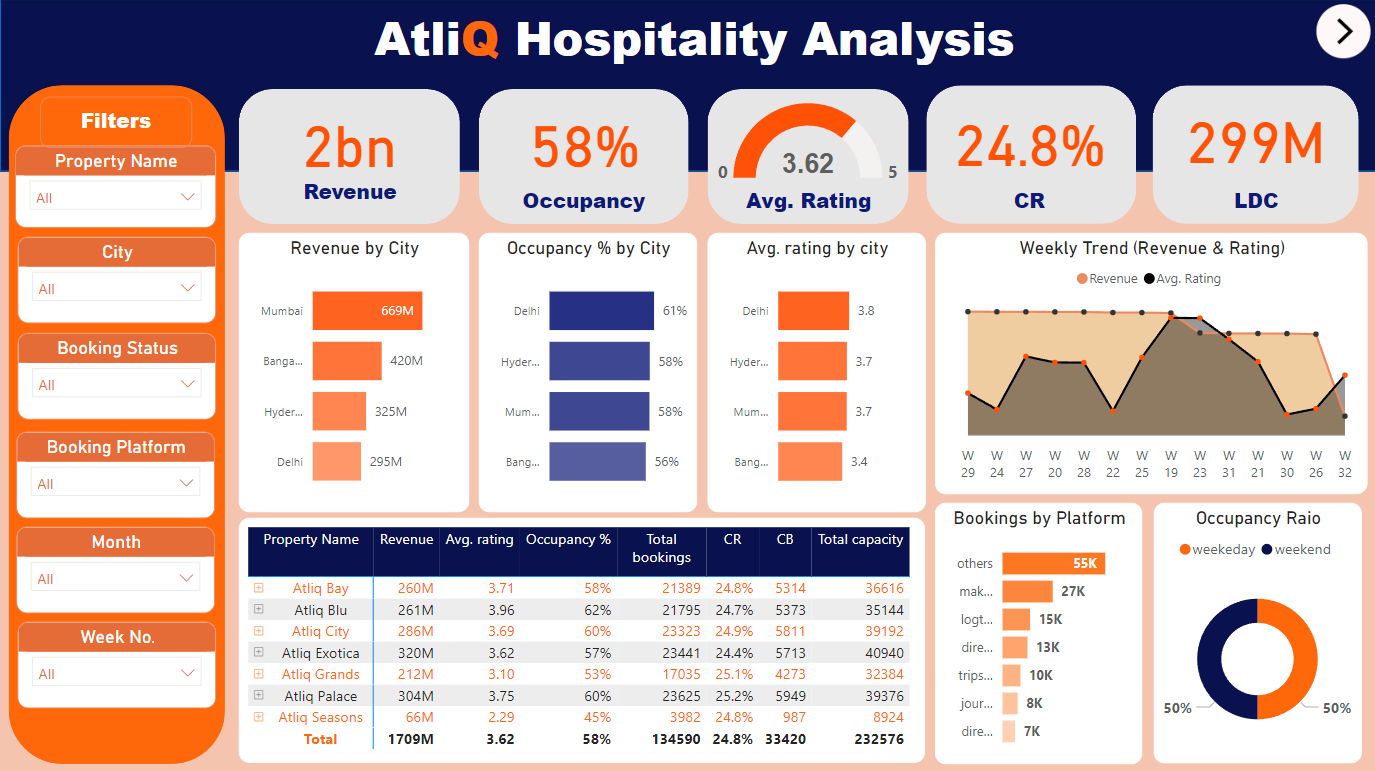

What the dashboard file says about the page in this screenshot:
{"tool":"powerbi","page":{"name":"Overall","canvas":[1280,720],"ordinal":0},"visuals":[{"type":"shape","box":[0,0,1280.2,160.5],"z":0},{"type":"textbox","box":[158.1,0,975.6,80.2],"z":0},{"type":"slicer","title":"Property Name","fields":{"Values":["dim_hotels.property_name"]},"box":[14,136.6,187.1,77.2],"z":0,"group":"g1"},{"type":"textbox","box":[37.3,91,141.9,47.7],"z":1000,"group":"g1"},{"type":"shape","box":[8.1,80.2,201.2,631.4],"z":2000},{"type":"slicer","title":"City","fields":{"Values":["dim_hotels.city"]},"box":[16.5,221.6,184.8,80.6],"z":2000,"group":"g1"},{"type":"shape","box":[222.1,83.7,205.8,125.6],"z":3000},{"type":"slicer","title":"Booking Status","fields":{"Values":["fact_bookings.booking_status"]},"box":[16.5,310.3,184.8,80.6],"z":3000,"group":"g1"},{"type":"shape","box":[445.4,83.7,195.3,125.6],"z":4000},{"type":"slicer","title":"Booking Platform","fields":{"Values":["fact_bookings.booking_platform"]},"box":[15.3,402.5,184.8,80.6],"z":4000,"group":"g1"},{"type":"shape","box":[658.1,83.7,187.2,125.6],"z":5000},{"type":"slicer","title":"Month","fields":{"Values":["dim_date.mmm yy.Variation.Date Hierarchy.Month"]},"box":[15.3,491.1,184.8,80.6],"z":5000,"group":"g1"},{"type":"shape","box":[861.6,80.2,195.3,129.1],"z":6000},{"type":"slicer","title":"Week No.","fields":{"Values":["dim_date.week no"]},"box":[16.5,579.8,184.8,80.6],"z":6000,"group":"g1"},{"type":"shape","box":[1072.1,80.2,191.9,129.1],"z":7000},{"type":"group","id":"g1","title":"Group 3","box":[14,91,187.2,569.4],"z":8000},{"type":"card","fields":{"Values":["Measures Table.revenue"]},"box":[243,91.9,165.1,76.7],"z":9000},{"type":"textbox","box":[232.9,160.9,186.1,40.8],"z":10000},{"type":"donutChart","title":"Occupancy Raio","fields":{"Category":["dim_date.day_type"],"Y":["Measures Table.Occupancy %"]},"box":[1072.7,468.9,193.4,242.1],"z":11000},{"type":"card","fields":{"Values":["Measures Table.Occupancy %"]},"box":[468.6,91.9,150,76.7],"z":12000},{"type":"textbox","box":[459.3,168.6,167.4,40.7],"z":13000},{"type":"textbox","box":[675.6,168.6,153.5,40.7],"z":14000},{"type":"gauge","fields":{"Y":["Measures Table.Avg.rating mod"],"MaxValue":["Measures Table.max.rating"],"MinValue":["Measures Table.min.rating"]},"box":[658.1,83.7,187.2,101.2],"z":15000},{"type":"card","fields":{"Values":["Measures Table.CR"]},"box":[879.1,91.9,159.3,75.6],"z":16000},{"type":"textbox","box":[886,168.6,143,40.7],"z":17000},{"type":"card","fields":{"Values":["Measures Table.LDC"]},"box":[1096.5,84.9,144.2,83.7],"z":18000},{"type":"textbox","box":[1096.5,168.6,144.2,40.7],"z":19000},{"type":"clusteredBarChart","title":"Revenue by City","fields":{"Category":["dim_hotels.city"],"Y":["Measures Table.revenue"]},"box":[222.6,217,214.3,260],"z":20000},{"type":"clusteredBarChart","title":"Occupancy % by City","fields":{"Y":["Measures Table.Occupancy %"],"Category":["dim_hotels.city"]},"box":[445.2,217,203.1,260.2],"z":21000},{"type":"clusteredBarChart","fields":{"Category":["dim_hotels.city"],"Y":["Measures Table.Avg. rating"]},"box":[658.1,217,203.1,260.2],"z":22000},{"type":"areaChart","title":"Weekly Trend (Revenue & Rating)","fields":{"Category":["dim_date.week no"],"Y":["Measures Table.revenue"],"Y2":["Measures Table.Avg. rating"]},"box":[869.8,217.4,402.3,243],"z":23000},{"type":"clusteredBarChart","title":"Bookings by Platform","fields":{"Y":["Measures Table.Total bookings"],"Category":["fact_bookings.booking_platform"]},"box":[869.8,468.6,193,243],"z":24000},{"type":"pivotTable","fields":{"Rows":["dim_hotels.property_name","dim_hotels.city"],"Values":["Measures Table.revenue","Measures Table.Avg. rating","Measures Table.Occupancy %","Measures Table.Total bookings","Measures Table.CR","Measures Table.Total cancelled bookings","Measures Table.Total capacity"]},"box":[222.6,482.8,638.6,228.2],"z":25000},{"type":"image","box":[1219.8,0,60.5,60.5],"z":25001}]}

Visuals, with their boxes in screenshot pixels (x1, y1, x2, y2), scaled from the page's 1280x720 canvas onto the 1375x771 screenshot:
shape: (0, 0, 1374, 172)
textbox: (170, 0, 1218, 86)
"Property Name" slicer: (15, 146, 216, 229)
textbox: (40, 97, 192, 149)
shape: (9, 86, 225, 762)
"City" slicer: (18, 237, 216, 324)
shape: (239, 90, 460, 224)
"Booking Status" slicer: (18, 332, 216, 419)
shape: (478, 90, 688, 224)
"Booking Platform" slicer: (16, 431, 215, 517)
shape: (707, 90, 908, 224)
"Month" slicer: (16, 526, 215, 612)
shape: (926, 86, 1135, 224)
"Week No." slicer: (18, 621, 216, 707)
shape: (1152, 86, 1358, 224)
"Group 3" group: (15, 97, 216, 707)
card - Measures Table.revenue: (261, 98, 438, 181)
textbox: (250, 172, 450, 216)
"Occupancy Raio" donutChart: (1152, 502, 1360, 761)
card - Measures Table.Occupancy %: (503, 98, 665, 181)
textbox: (493, 181, 673, 224)
textbox: (726, 181, 891, 224)
gauge - Measures Table.Avg.rating mod x Measures Table.max.rating: (707, 90, 908, 198)
card - Measures Table.CR: (944, 98, 1115, 179)
textbox: (952, 181, 1105, 224)
card - Measures Table.LDC: (1178, 91, 1333, 181)
textbox: (1178, 181, 1333, 224)
"Revenue by City" clusteredBarChart: (239, 232, 469, 511)
"Occupancy % by City" clusteredBarChart: (478, 232, 696, 511)
clusteredBarChart - dim_hotels.city x Measures Table.Avg. rating: (707, 232, 925, 511)
"Weekly Trend (Revenue & Rating)" areaChart: (934, 233, 1367, 493)
"Bookings by Platform" clusteredBarChart: (934, 502, 1142, 762)
pivotTable - dim_hotels.property_name x dim_hotels.city: (239, 517, 925, 761)
image: (1310, 0, 1374, 65)
